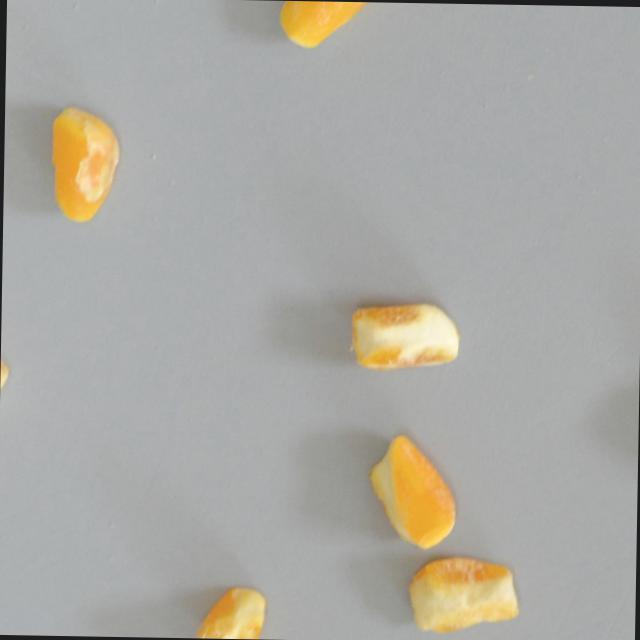dañado: (361, 427, 459, 557), (400, 552, 521, 640), (45, 100, 122, 227), (344, 299, 461, 378), (273, 0, 394, 52), (190, 582, 270, 639)
